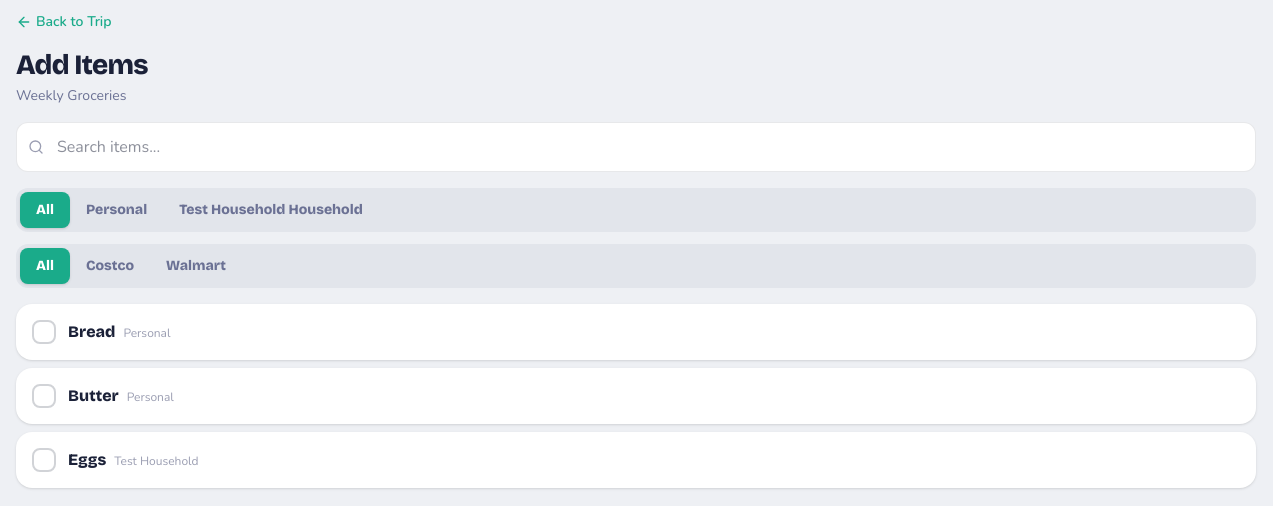
Test: AddTripItemsPage › filters items by search text
In the field with placeholder "Search items...": (636, 147) [16, 122, 1256, 172], type "egg"
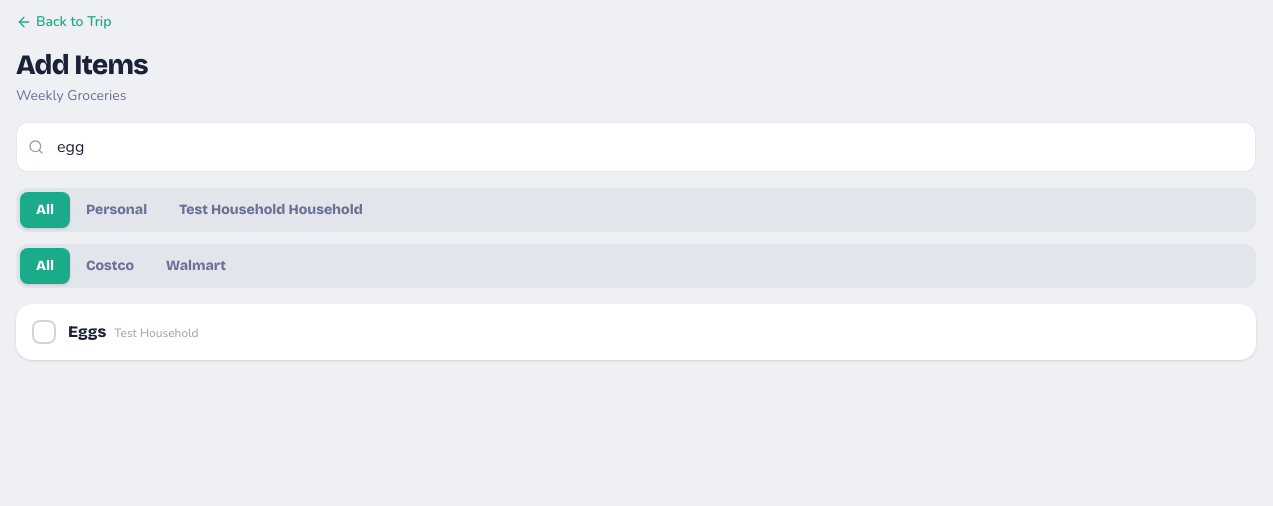
Expected: the text "Eggs" is shown, [68, 322, 106, 341]
Expected: the text "Bread" is gone
Expected: the text "Butter" is gone
